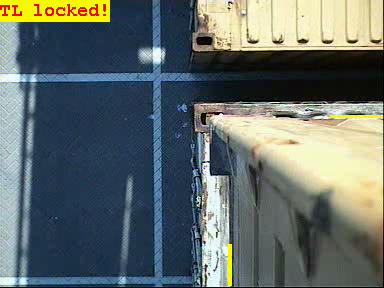groundmarker_2: (138, 148, 199, 189), (138, 215, 199, 256)
